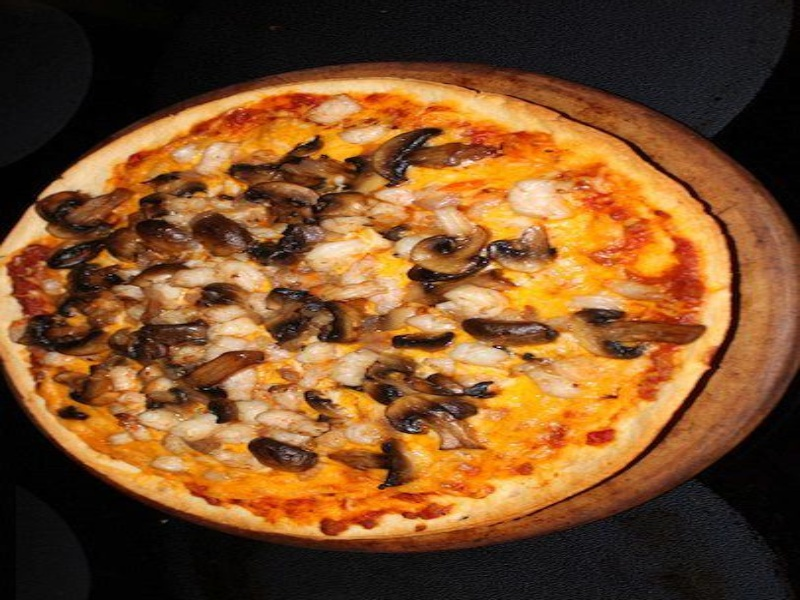champignon: (559, 297, 707, 359), (380, 390, 500, 459), (369, 122, 492, 188), (400, 223, 496, 280), (489, 220, 565, 282)
